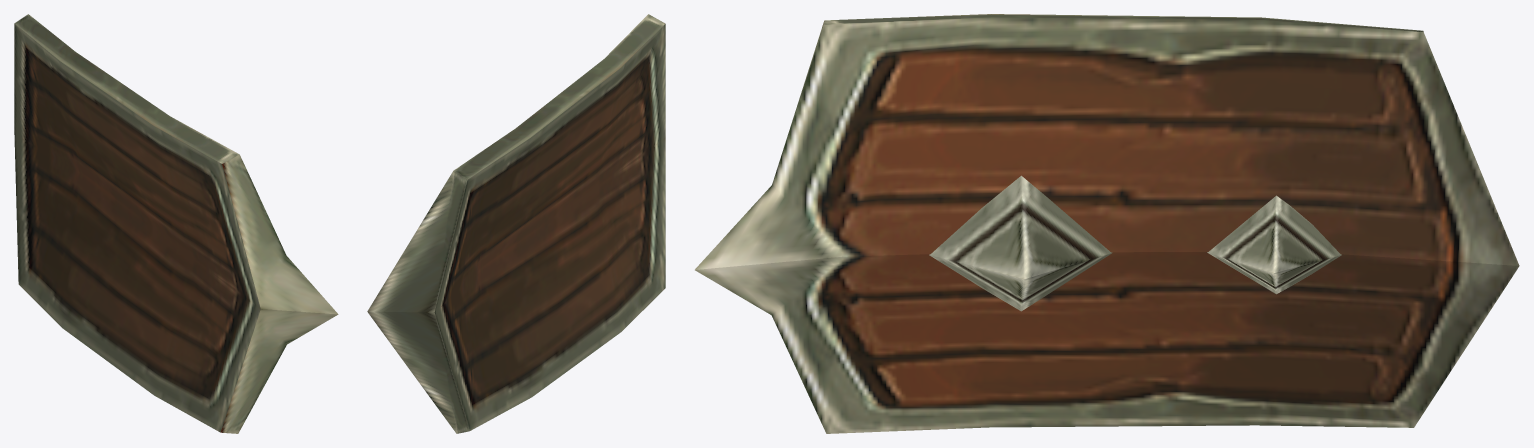
File: ORC_Shield_D.gltf
The picture shows the model from 3 angles, left to right: view 1: azimuth 30°, elevation 25°; view 2: azimuth 150°, elevation 25°; view 3: azimuth 270°, elevation 25°; orthographic projection. The views are drawn at different scales.
Visible parts, largest first — view 1: ORC_Shield_D; view 2: ORC_Shield_D; view 3: ORC_Shield_D.
Part boxes in pixels (x1,y1,x2,y2): ORC_Shield_D: [14, 14, 338, 433]; ORC_Shield_D: [367, 14, 665, 433]; ORC_Shield_D: [695, 14, 1519, 433].
Bounding box in the file's own units: 0.2375 × 0.6661 × 1.21.
Materials: 1 (1 with a texture image).
